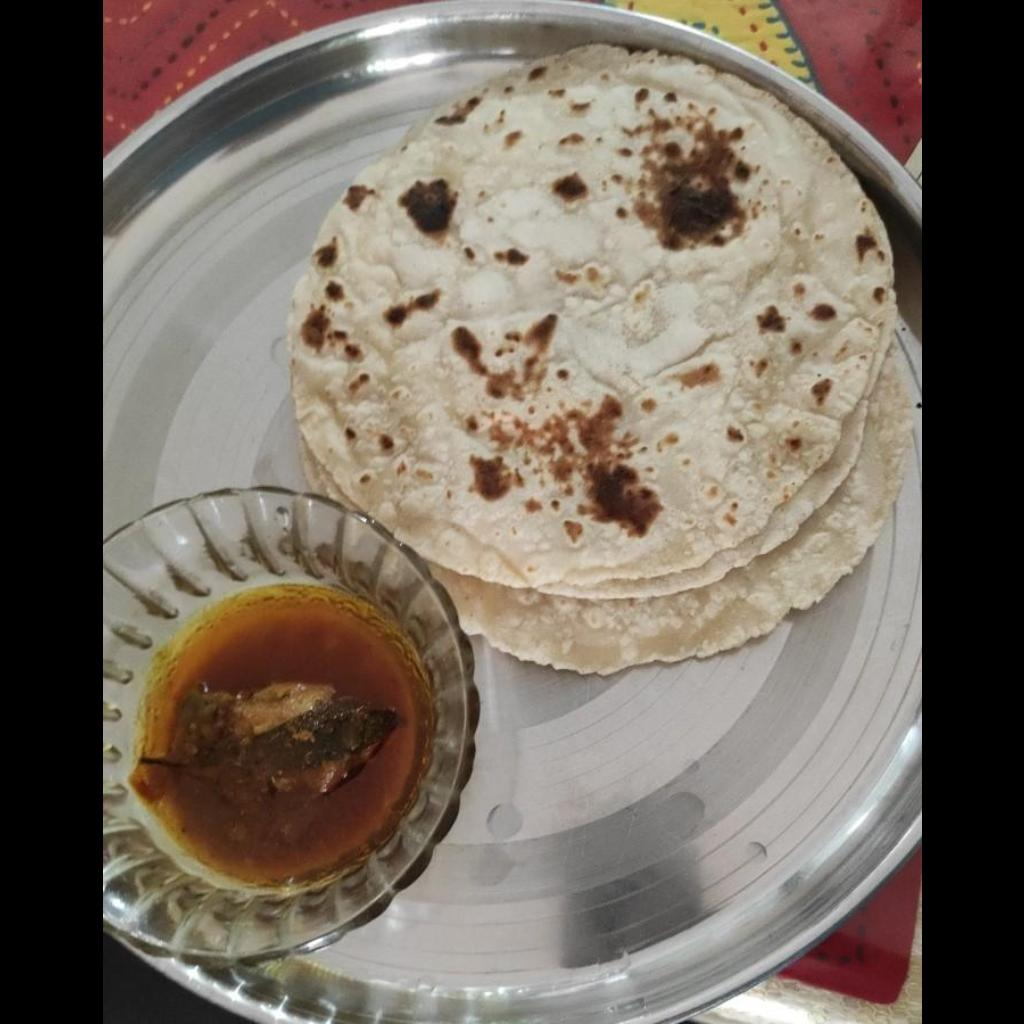chicken: (143, 680, 414, 811)
ruti: (288, 45, 913, 676)
